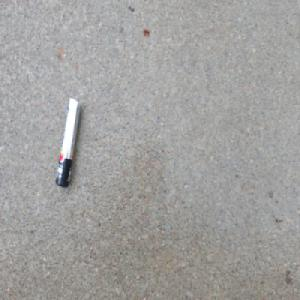Battery: (54, 95, 81, 190)
